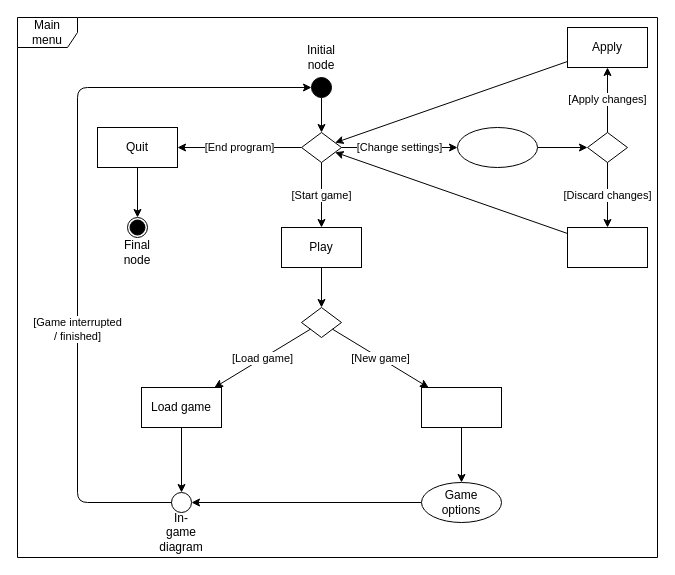
Image size: 675x575. Some labels were removed from this diagram. The shapes that lost their labels are listed below. From the top down, each one's box as (x1, y1, x2, y2) in pixels, then its label:
(456, 126, 538, 168): Settings
(566, 226, 648, 268): Cancel
(420, 386, 502, 428): New game
